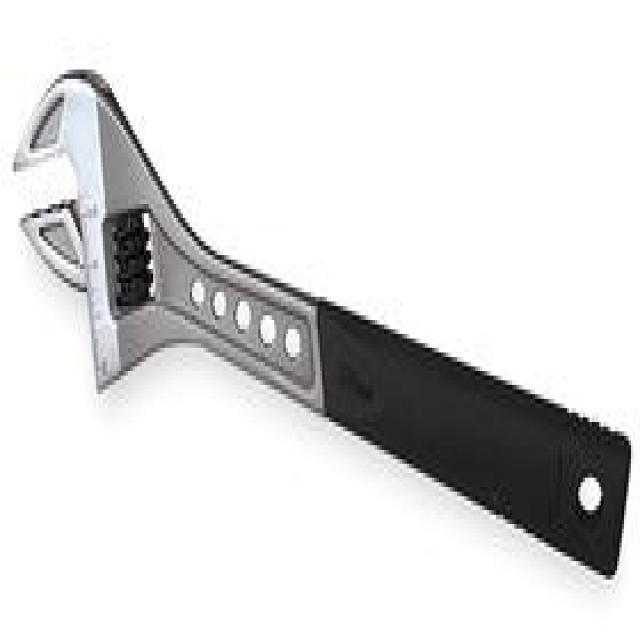wrench: (5, 55, 640, 576)
